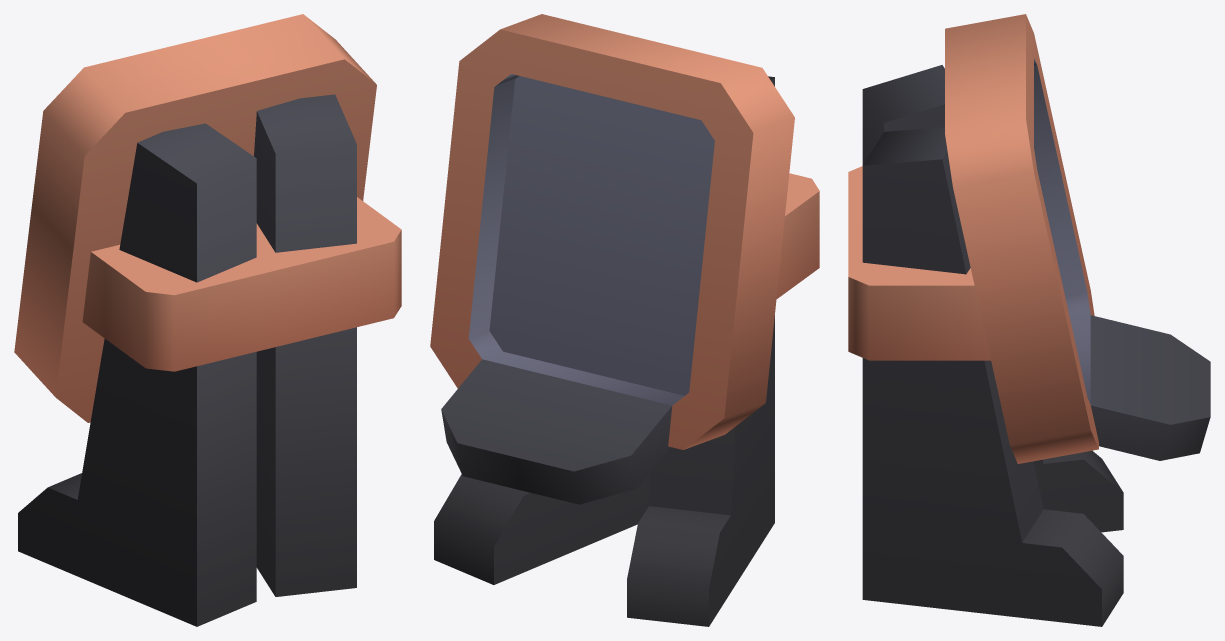
Rendered from screen-panel-small.obj.
The picture shows the model from 3 angles, left to right: view 1: azimuth 30°, elevation 25°; view 2: azimuth 150°, elevation 25°; view 3: azimuth 270°, elevation 25°; orthographic projection. The views are drawn at different scales.
Visible parts, largest first — view 1: screen-panel-small; view 2: screen-panel-small; view 3: screen-panel-small.
Boxes of the visible parts, left/top/right/bottom form: screen-panel-small: left=14, top=14, right=401, bottom=626; screen-panel-small: left=430, top=14, right=819, bottom=626; screen-panel-small: left=848, top=14, right=1210, bottom=626.
Size of the model in its own units: 0.6 by 0.9913 by 0.6572.
